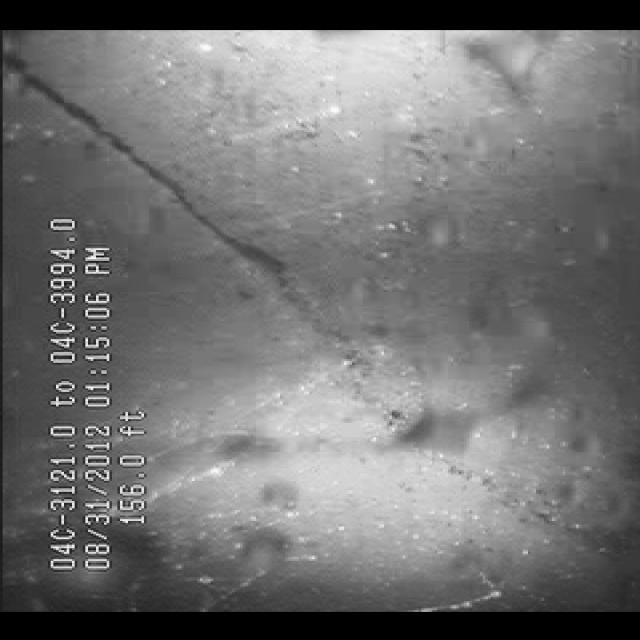Crack: (121, 113, 398, 343)
